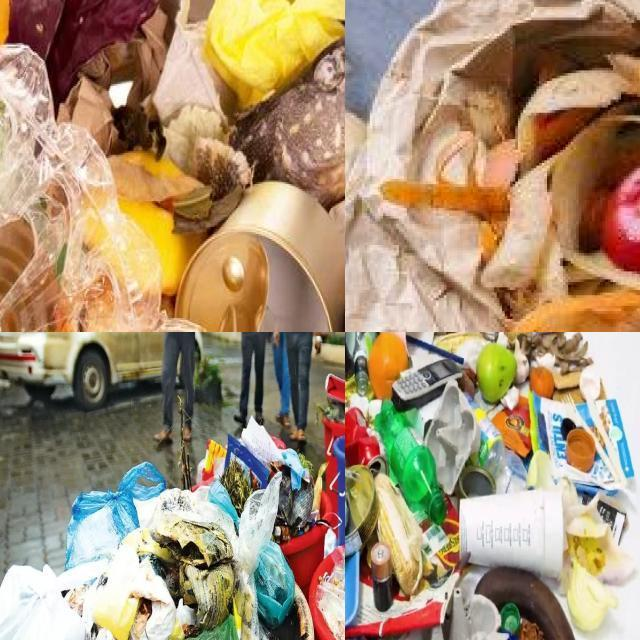Disposable: (459, 490, 563, 577)
E_waste: (392, 359, 463, 411), (370, 542, 393, 612)
Garbage: (345, 332, 635, 640), (0, 420, 329, 640), (455, 53, 640, 332)
Glass_bottle: (345, 332, 377, 394)
Plastic: (566, 428, 594, 472), (345, 553, 359, 627), (500, 602, 521, 640)
Plastic_Bag: (160, 474, 280, 584), (66, 463, 166, 568), (235, 481, 279, 640), (255, 542, 295, 627), (315, 581, 345, 640), (196, 615, 238, 640), (325, 544, 345, 592)
Plastic_Straw: (406, 336, 464, 366)
Plastic_bottle: (374, 399, 447, 523), (468, 397, 527, 495)
Plastic_wraper: (345, 499, 460, 637), (220, 435, 268, 516), (492, 397, 531, 458), (200, 440, 227, 480)
Tin_box: (345, 464, 378, 556), (459, 468, 496, 497)
can: (345, 406, 386, 472)
contaminated_waste: (0, 34, 345, 332)
